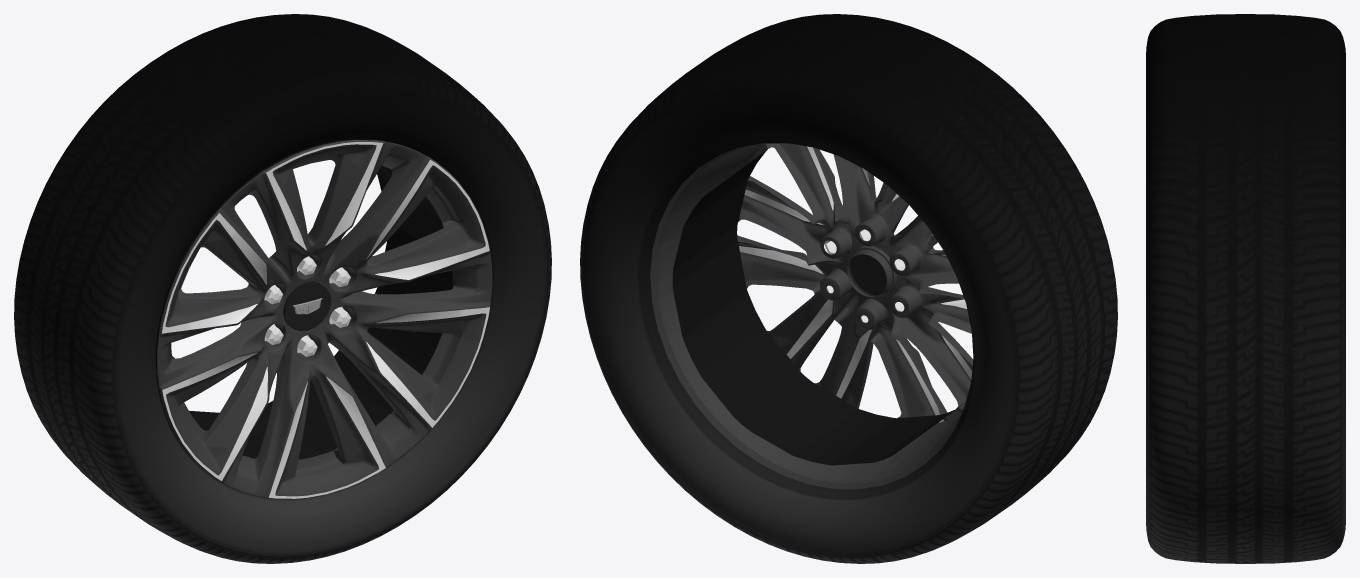
3 renders of one model, left to right at view 1: azimuth 30°, elevation 25°; view 2: azimuth 150°, elevation 25°; view 3: azimuth 270°, elevation 25°, orthographic.
Parts seen in each view (by area): view 1: sgg_wheel.001, rim, rim_stripes, inner_rim, bolt_lugs, center_cap; view 2: sgg_wheel.001, rim, inner_rim, rim_stripes, center_cap; view 3: sgg_wheel.001.
Part boxes in pixels (box(x1,y1,x2,y2)): sgg_wheel.001: box(14, 14, 551, 563); rim: box(157, 140, 492, 499); rim_stripes: box(162, 142, 489, 498); inner_rim: box(189, 165, 452, 459); bolt_lugs: box(264, 256, 351, 356); center_cap: box(283, 281, 330, 331); sgg_wheel.001: box(580, 14, 1117, 563); rim: box(650, 143, 973, 489); inner_rim: box(672, 150, 964, 465); rim_stripes: box(739, 146, 972, 422); center_cap: box(849, 254, 886, 296); sgg_wheel.001: box(1146, 14, 1345, 563).
Size of the model in its own units: 0.8371 by 0.8371 by 0.3041.
